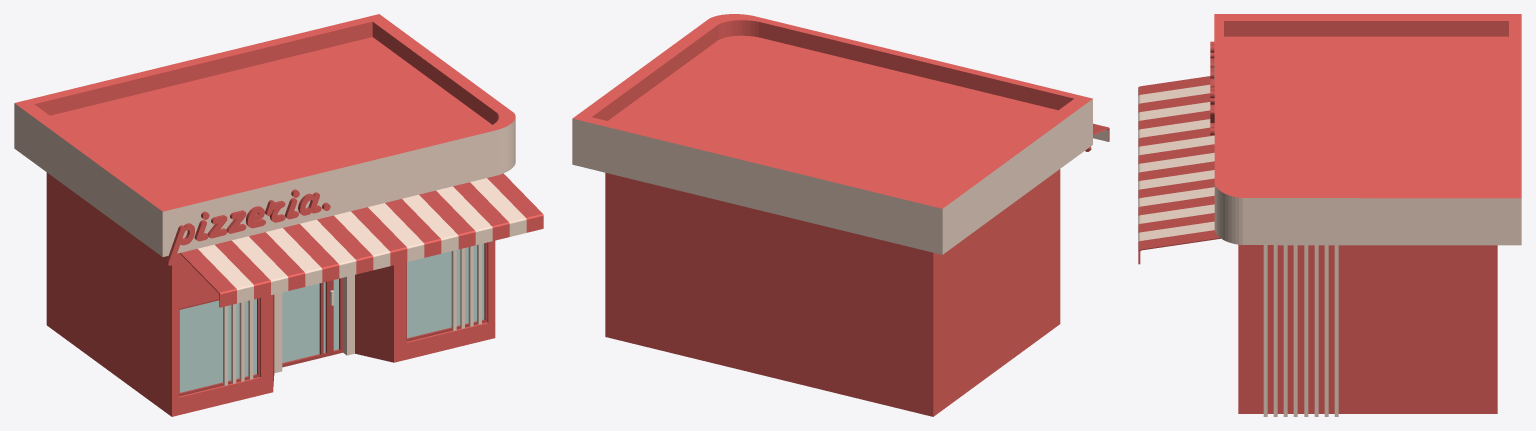
The model's file is pizzeria.glb.
3 views of the same model, side by side, from view 1: azimuth 30°, elevation 25°; view 2: azimuth 150°, elevation 25°; view 3: azimuth 270°, elevation 25° (orthographic). The views are drawn at different scales.
Parts seen in each view (by area): view 1: body; view 2: body; view 3: body.
Part boxes in pixels (left/top/right/bottom): body: left=14, top=14, right=543, bottom=416; body: left=572, top=14, right=1109, bottom=416; body: left=1138, top=14, right=1521, bottom=416.
Bounding box in the file's own units: 6.71 × 3.85 × 5.9.
